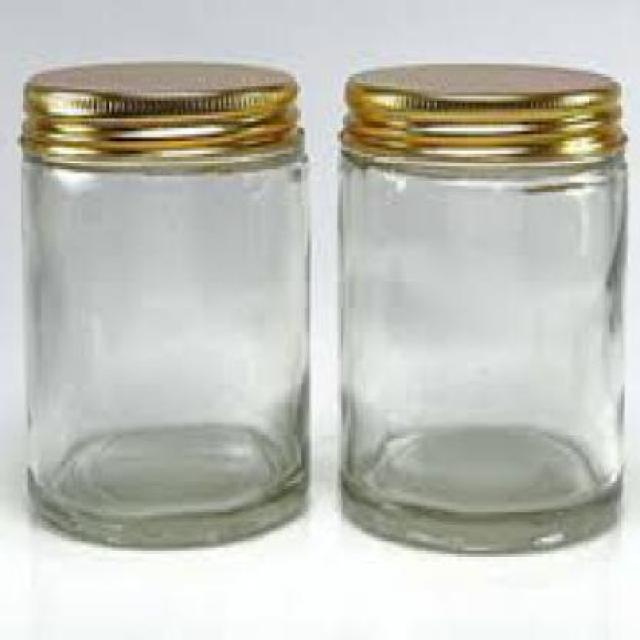kaca: (334, 148, 623, 548), (19, 148, 308, 544)
